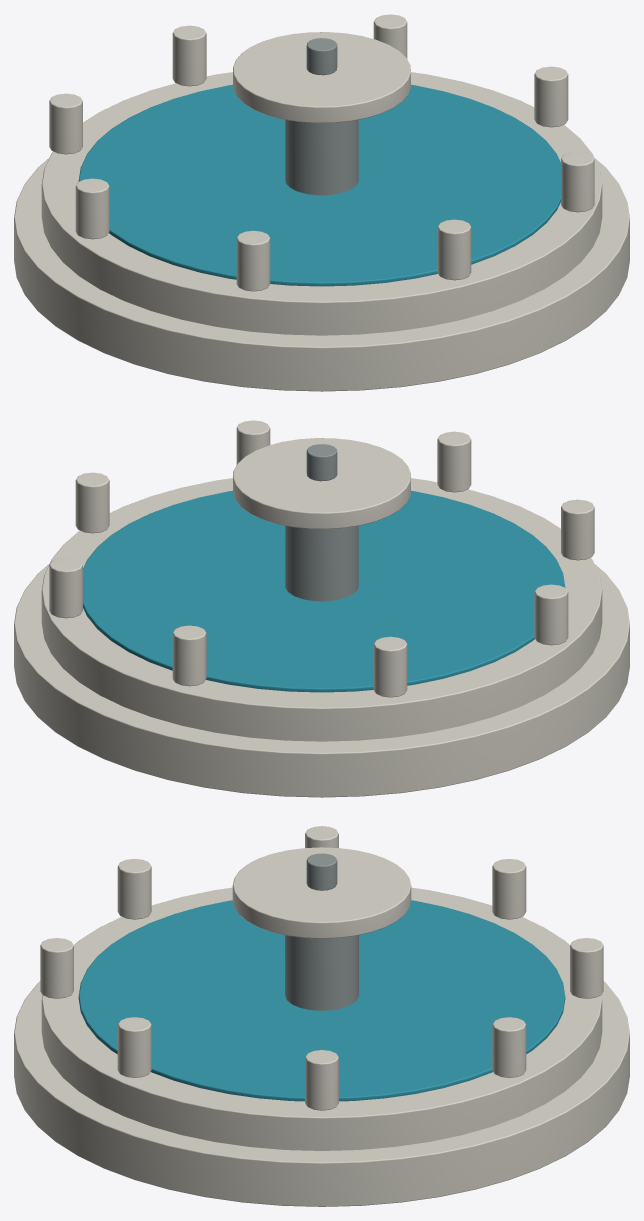
The model's file is fontaine_baie_des_rois.glb.
The picture shows the model from 3 angles, top to bottom: view 1: azimuth 30°, elevation 25°; view 2: azimuth 150°, elevation 25°; view 3: azimuth 270°, elevation 25°; orthographic projection.
Visible parts, largest first — view 1: Eau_bassin, Socle_fontaine, Bassin_fontaine, Couronne_superieure, Colonne_centrale, Borne_bord_bassin, Borne_bord_bassin.005, Borne_bord_bassin.002, Borne_bord_bassin.004, Borne_bord_bassin.006, Borne_bord_bassin.003, Borne_bord_bassin.007 (+2 smaller); view 2: Eau_bassin, Socle_fontaine, Bassin_fontaine, Couronne_superieure, Colonne_centrale, Borne_bord_bassin, Borne_bord_bassin.003, Borne_bord_bassin.002, Borne_bord_bassin.004, Borne_bord_bassin.006, Borne_bord_bassin.001, Borne_bord_bassin.005 (+2 smaller); view 3: Eau_bassin, Socle_fontaine, Bassin_fontaine, Couronne_superieure, Colonne_centrale, Borne_bord_bassin.001, Borne_bord_bassin.007, Borne_bord_bassin.003, Borne_bord_bassin.005, Borne_bord_bassin, Borne_bord_bassin.002, Borne_bord_bassin.006 (+2 smaller).
Part boxes in pixels (x1=…): Eau_bassin: x1=78, y1=84, x2=560, y2=286; Socle_fontaine: x1=14, y1=158, x2=629, y2=391; Bassin_fontaine: x1=41, y1=72, x2=602, y2=335; Couronne_superieure: x1=233, y1=32, x2=410, y2=123; Colonne_centrale: x1=285, y1=119, x2=358, y2=195; Borne_bord_bassin: x1=534, y1=66, x2=568, y2=127; Borne_bord_bassin.005: x1=236, y1=230, x2=270, y2=291; Borne_bord_bassin.002: x1=172, y1=25, x2=206, y2=86; Borne_bord_bassin.004: x1=75, y1=178, x2=109, y2=239; Borne_bord_bassin.006: x1=437, y1=219, x2=471, y2=280; Borne_bord_bassin.003: x1=49, y1=93, x2=82, y2=154; Borne_bord_bassin.007: x1=561, y1=151, x2=594, y2=212; Eau_bassin: x1=83, y1=490, x2=565, y2=692; Socle_fontaine: x1=14, y1=564, x2=629, y2=797; Bassin_fontaine: x1=41, y1=478, x2=602, y2=741; Couronne_superieure: x1=233, y1=438, x2=410, y2=529; Colonne_centrale: x1=285, y1=525, x2=358, y2=601; Borne_bord_bassin: x1=75, y1=472, x2=109, y2=533; Borne_bord_bassin.003: x1=373, y1=636, x2=407, y2=697; Borne_bord_bassin.002: x1=172, y1=625, x2=206, y2=686; Borne_bord_bassin.004: x1=534, y1=584, x2=568, y2=645; Borne_bord_bassin.006: x1=437, y1=431, x2=471, y2=492; Borne_bord_bassin.001: x1=49, y1=557, x2=82, y2=618; Borne_bord_bassin.005: x1=561, y1=499, x2=594, y2=560; Eau_bassin: x1=78, y1=900, x2=565, y2=1101; Socle_fontaine: x1=14, y1=981, x2=629, y2=1206; Bassin_fontaine: x1=41, y1=887, x2=602, y2=1150; Couronne_superieure: x1=232, y1=847, x2=411, y2=938; Colonne_centrale: x1=285, y1=935, x2=358, y2=1010; Borne_bord_bassin.001: x1=492, y1=1017, x2=526, y2=1077; Borne_bord_bassin.007: x1=117, y1=1017, x2=151, y2=1077; Borne_bord_bassin.003: x1=492, y1=859, x2=526, y2=919; Borne_bord_bassin.005: x1=117, y1=859, x2=151, y2=919; Borne_bord_bassin: x1=305, y1=1050, x2=338, y2=1110; Borne_bord_bassin.002: x1=570, y1=938, x2=603, y2=998; Borne_bord_bassin.006: x1=40, y1=938, x2=73, y2=998.
Size of the model in its own units: 4 by 1.56 by 4.
